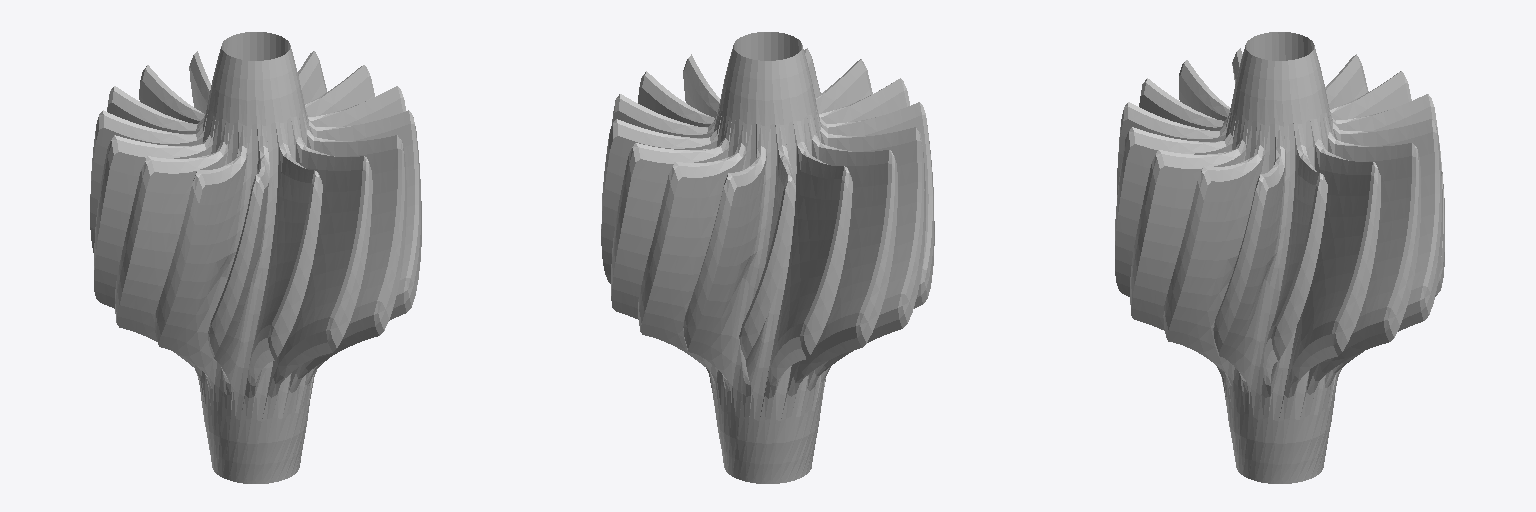
The model's file is rotor.obj.
3 renders of one model, left to right at view 1: azimuth 30°, elevation 25°; view 2: azimuth 150°, elevation 25°; view 3: azimuth 270°, elevation 25°, orthographic.
Visible parts, largest first — view 1: Sphere_Sphere.002; view 2: Sphere_Sphere.002; view 3: Sphere_Sphere.002.
Boxes of the visible parts, box(x1,y1,x2,y2) form: Sphere_Sphere.002: box(90, 32, 421, 483); Sphere_Sphere.002: box(601, 32, 934, 483); Sphere_Sphere.002: box(1115, 32, 1444, 483).
Size of the model in its own units: 5.31 by 7.43 by 5.31.